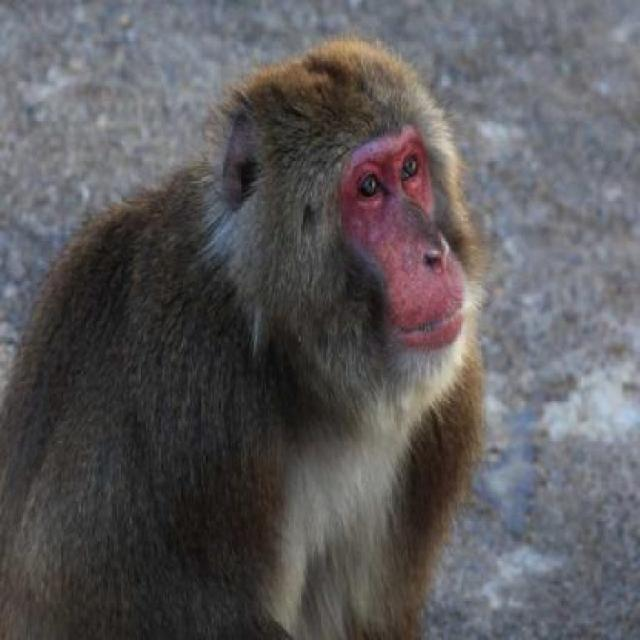Monkey: (0, 42, 522, 640)
